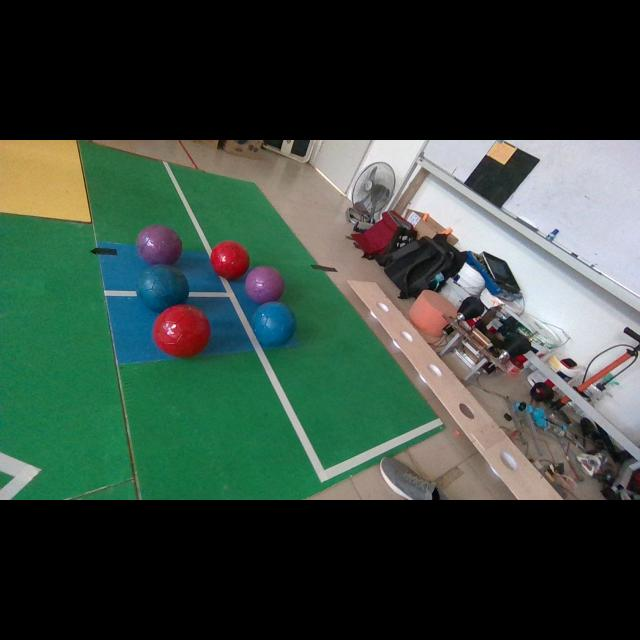B: (136, 265, 189, 312), (251, 301, 296, 347)
P: (136, 225, 182, 265), (245, 266, 285, 303)
R: (152, 304, 211, 358), (210, 240, 250, 279)
